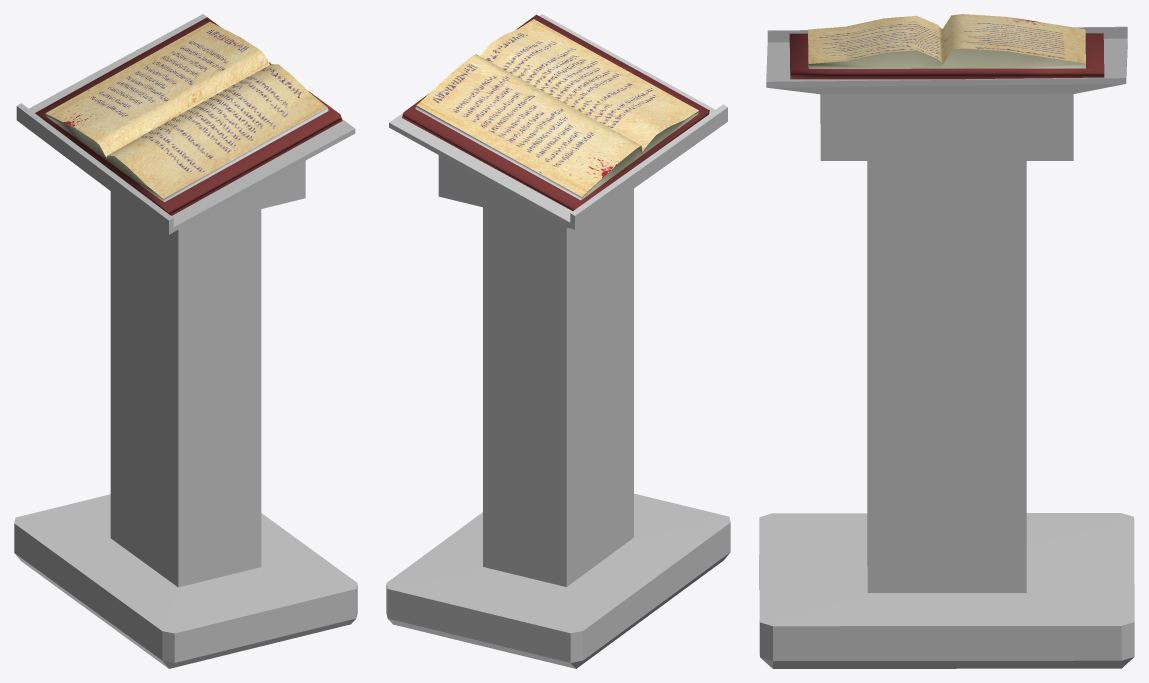
Rendered from SpellBook and Pedestal.fbx.
3 views of the same model, side by side, from view 1: azimuth 30°, elevation 25°; view 2: azimuth 150°, elevation 25°; view 3: azimuth 270°, elevation 25° (orthographic). The views are drawn at different scales.
Visible parts, largest first — view 1: pCube31; view 2: pCube31; view 3: pCube31.
Part boxes in pixels (x1=…): pCube31: x1=14, y1=14, x2=357, y2=668; pCube31: x1=386, y1=14, x2=730, y2=668; pCube31: x1=759, y1=14, x2=1134, y2=668.
Bounding box in the file's own units: 1.09 × 2.75 × 1.53.
